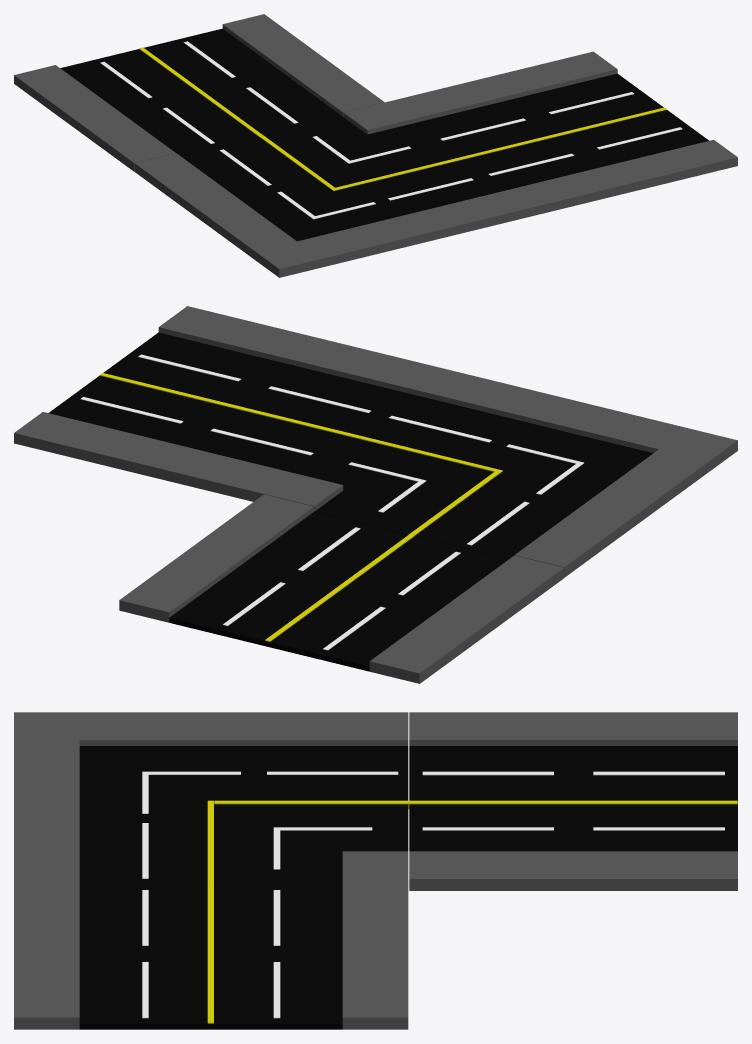
The model's file is Duble Yol 2 Donus.fbx.
3 renders of one model, top to bottom at view 1: azimuth 30°, elevation 25°; view 2: azimuth 150°, elevation 25°; view 3: azimuth 270°, elevation 25°, orthographic. The views are drawn at different scales.
Visible parts, largest first — view 1: Duble Yol 2 Donus; view 2: Duble Yol 2 Donus; view 3: Duble Yol 2 Donus.
Boxes of the visible parts, x1,y1,x2,y2 form: Duble Yol 2 Donus: (14,14,737,277); Duble Yol 2 Donus: (14,306,737,683); Duble Yol 2 Donus: (14,712,737,1029).
Size of the model in its own units: 1100 by 20 by 1102.
